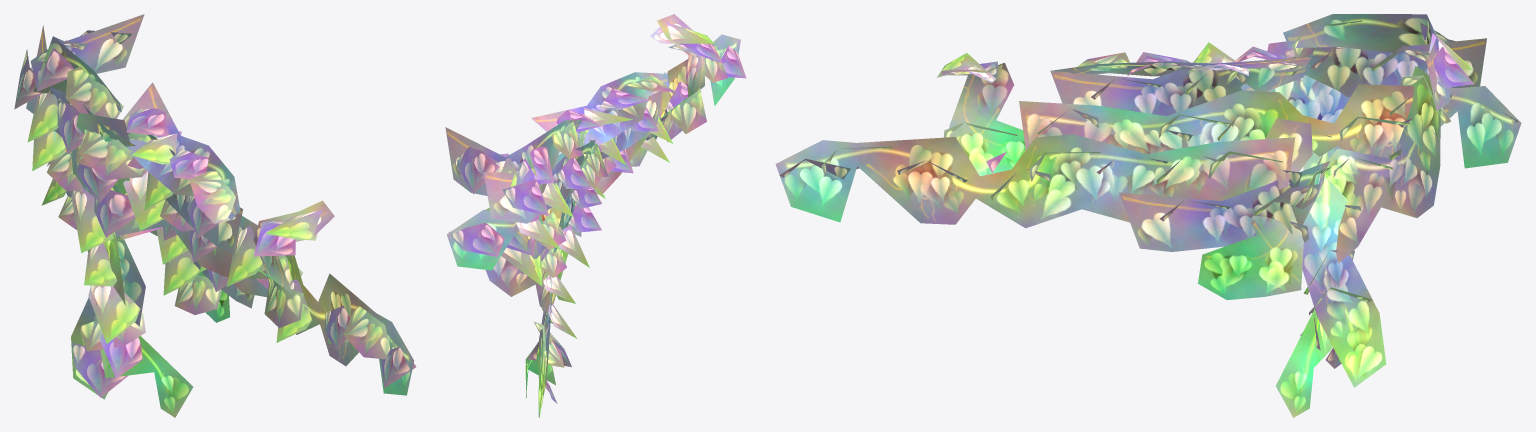
The model's file is moonflower_05_SM.fbx.
The picture shows the model from 3 angles, left to right: view 1: azimuth 30°, elevation 25°; view 2: azimuth 150°, elevation 25°; view 3: azimuth 270°, elevation 25°; orthographic projection. The views are drawn at different scales.
Parts seen in each view (by area): view 1: moonflower_05_SM_LOD0; view 2: moonflower_05_SM_LOD0; view 3: moonflower_05_SM_LOD0.
Boxes of the visible parts, x1,y1,x2,y2 form: moonflower_05_SM_LOD0: (14, 14, 416, 417); moonflower_05_SM_LOD0: (445, 14, 746, 417); moonflower_05_SM_LOD0: (775, 14, 1521, 417).
Size of the model in its own units: 145 by 660 by 364.
Materials: 1 (1 with a texture image).
